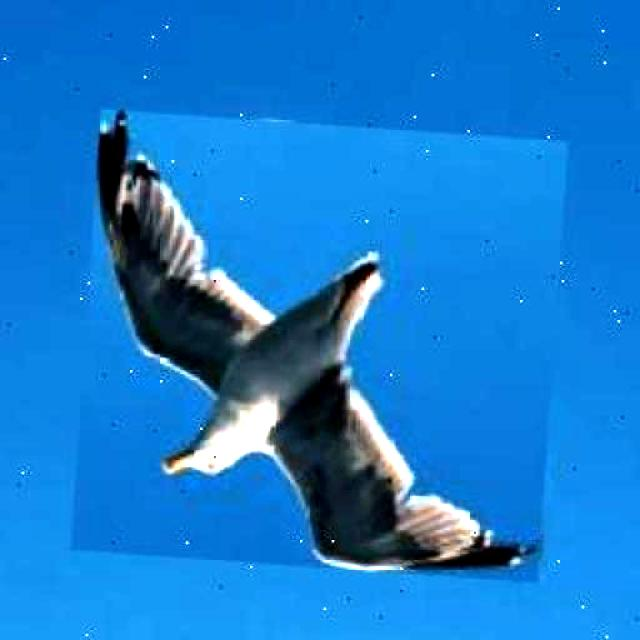airplane: (69, 109, 568, 582)
